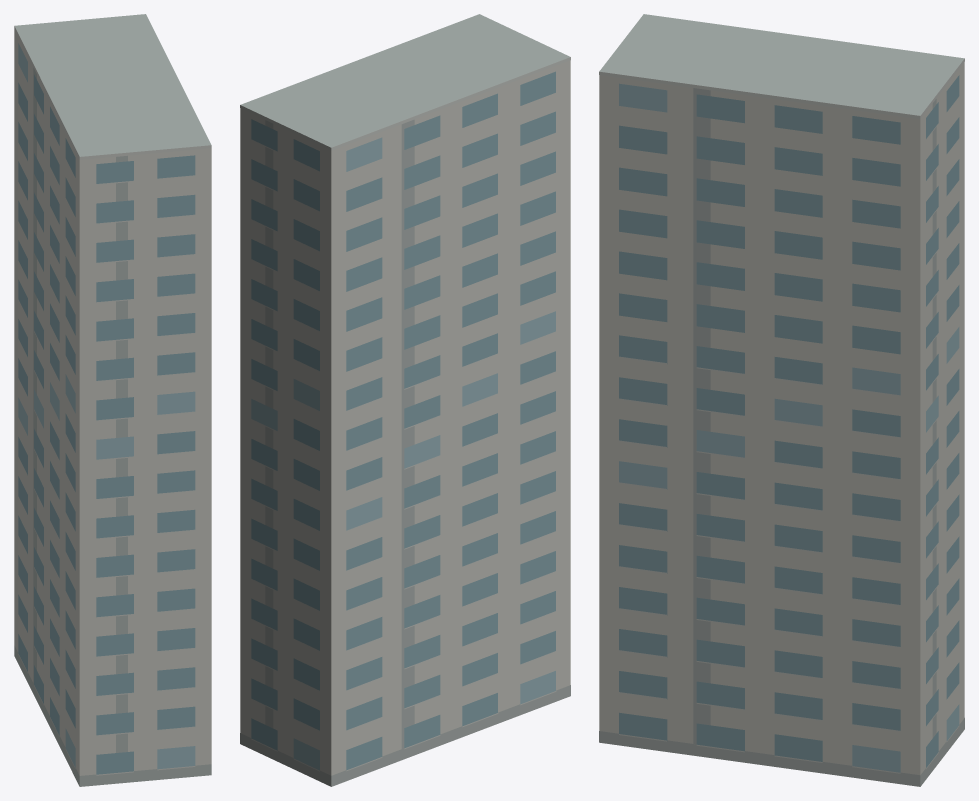
Rendered from residential-512b0868-ddc2-460b-8504-9f80b3d9abc8.glb.
3 views of the same model, side by side, from view 1: azimuth 30°, elevation 25°; view 2: azimuth 150°, elevation 25°; view 3: azimuth 270°, elevation 25° (orthographic). The views are drawn at different scales.
Visible parts, largest first — view 1: residential-512b0868-ddc2-460b-8504-9f80b3d9abc8.tmp; view 2: residential-512b0868-ddc2-460b-8504-9f80b3d9abc8.tmp; view 3: residential-512b0868-ddc2-460b-8504-9f80b3d9abc8.tmp.
Boxes of the visible parts, x1=… form: residential-512b0868-ddc2-460b-8504-9f80b3d9abc8.tmp: x1=14, y1=14, x2=211, y2=786; residential-512b0868-ddc2-460b-8504-9f80b3d9abc8.tmp: x1=240, y1=14, x2=570, y2=786; residential-512b0868-ddc2-460b-8504-9f80b3d9abc8.tmp: x1=599, y1=14, x2=964, y2=786.
Bounding box in the file's own units: 15.91 × 48.8 × 24.11.
